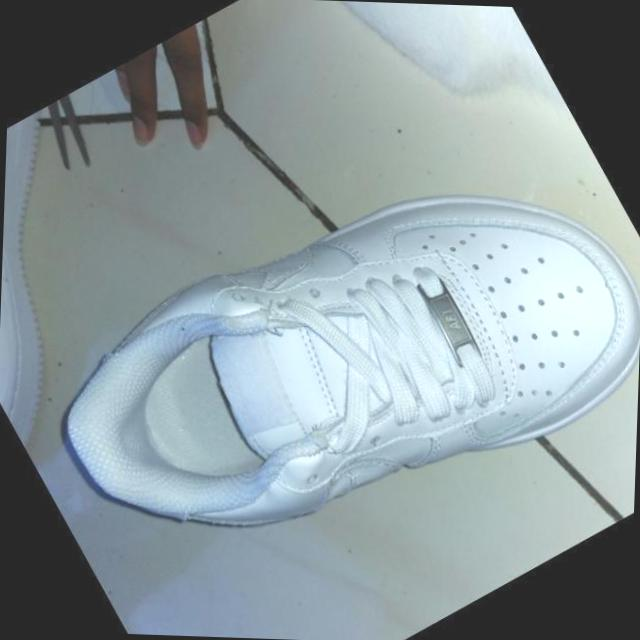nike_fake_airforce: (16, 71, 640, 640)
